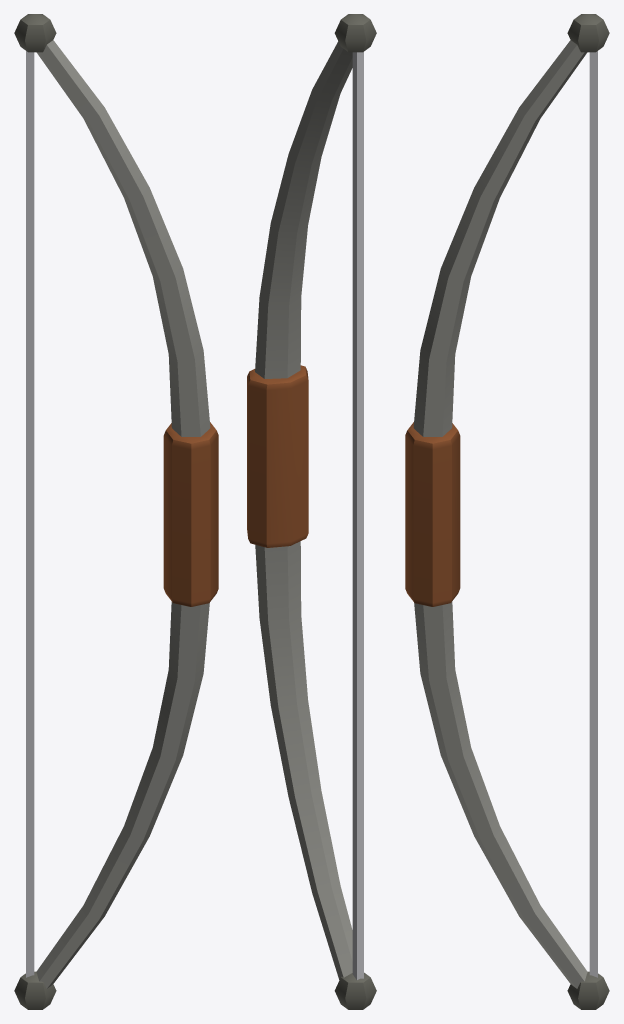
Rendered from StoneBow.fbx.
3 views of the same model, side by side, from view 1: azimuth 90°, elevation 25°; view 2: azimuth 210°, elevation 25°; view 3: azimuth 270°, elevation 25° (orthographic).
Visible parts, largest first — view 1: StoneBow; view 2: StoneBow; view 3: StoneBow.
Part boxes in pixels (x1,y1,x2,y2): StoneBow: (14, 14, 218, 1009); StoneBow: (247, 14, 376, 1009); StoneBow: (405, 14, 609, 1009).
Size of the model in its own units: 0.26 by 4.16 by 0.774.
1 material, 1 textured.
